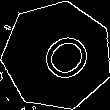O_SW: (23, 23, 91, 89)
